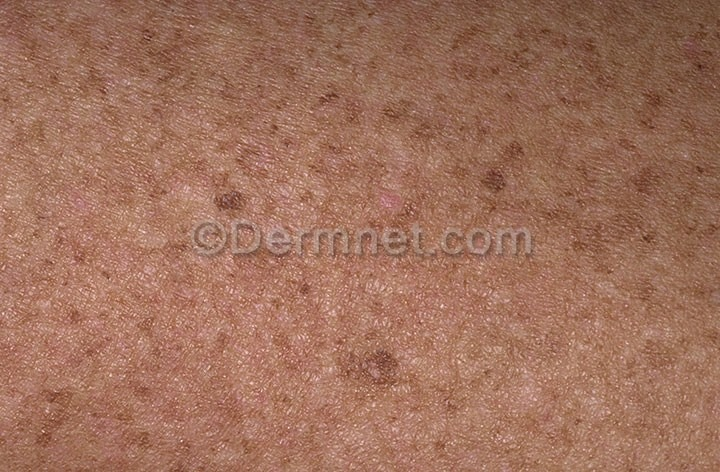Melasma: (33, 3, 681, 221), (18, 289, 455, 469)
